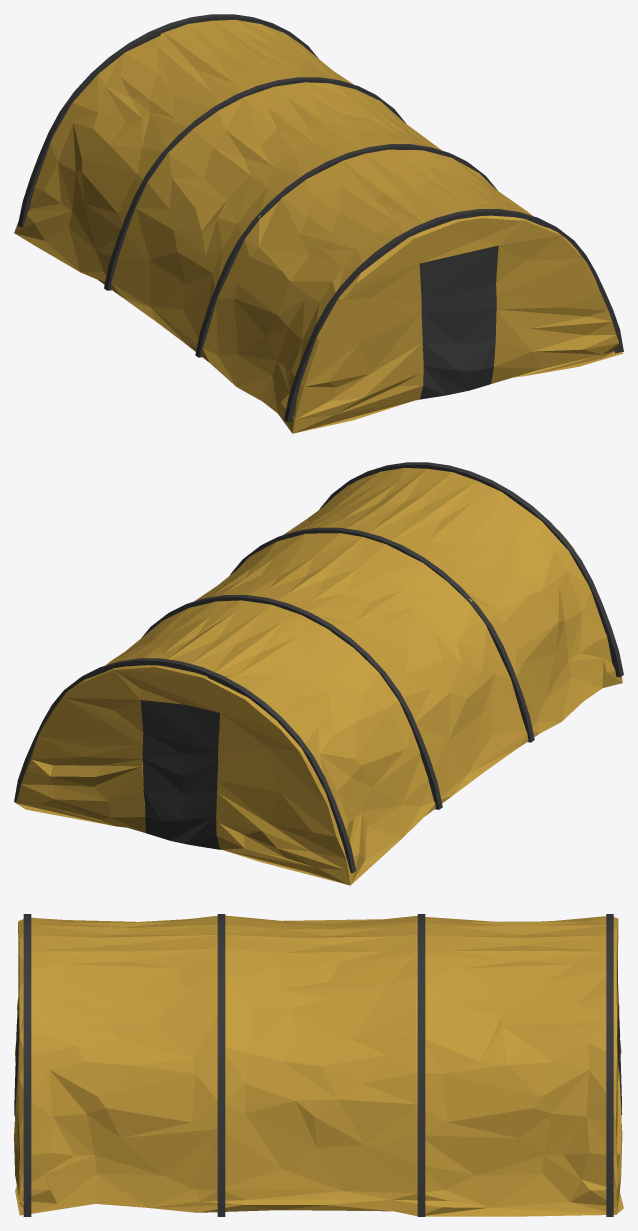
File: model_military_tent_yellow.fbx
3 views of the same model, one above another, from view 1: azimuth 30°, elevation 25°; view 2: azimuth 150°, elevation 25°; view 3: azimuth 270°, elevation 25° (orthographic). The views are drawn at different scales.
Parts seen in each view (by area): view 1: model_military_tent_yellow; view 2: model_military_tent_yellow; view 3: model_military_tent_yellow.
Part boxes in pixels (bbox=[...]): model_military_tent_yellow: bbox=[14, 14, 623, 433]; model_military_tent_yellow: bbox=[14, 462, 623, 885]; model_military_tent_yellow: bbox=[14, 914, 623, 1216].
Bounding box in the file's own units: 749 × 377 × 1071.
1 material, 1 textured.
